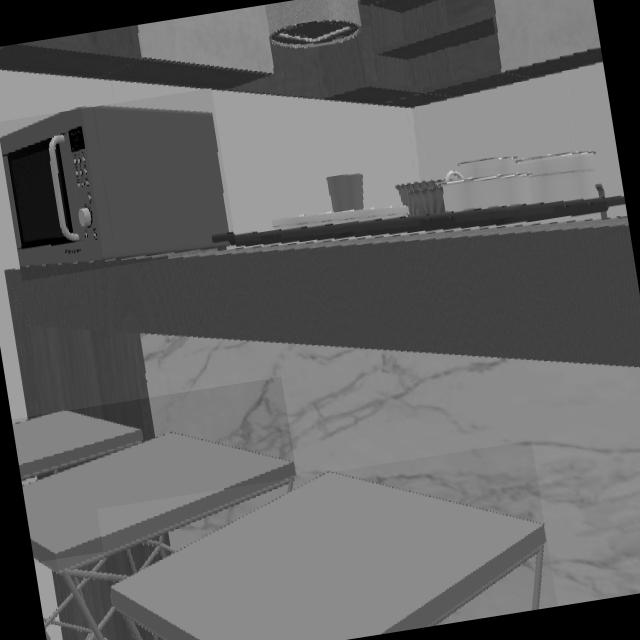chair: (110, 473, 547, 640), (13, 411, 297, 558)
microwave: (0, 108, 231, 268)
